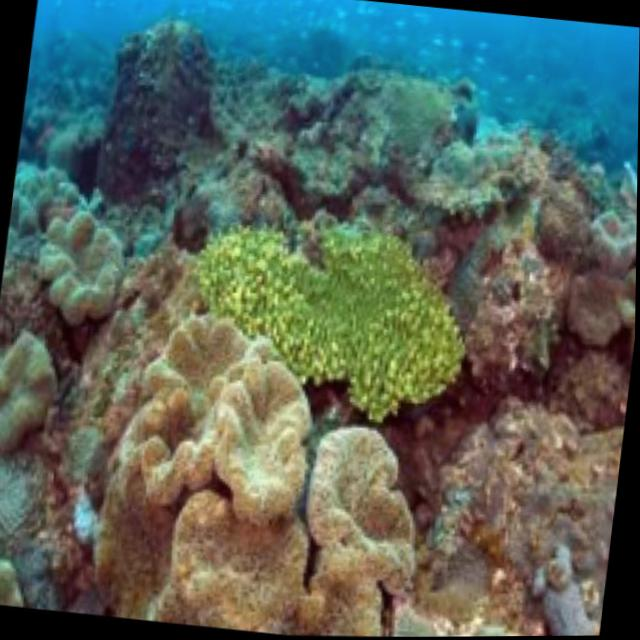Dead Coral: (80, 311, 440, 639), (414, 378, 629, 638), (63, 0, 241, 202), (23, 172, 156, 330)
